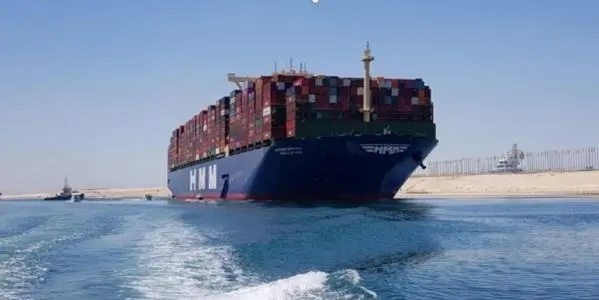Cargoship: (162, 38, 441, 207)
